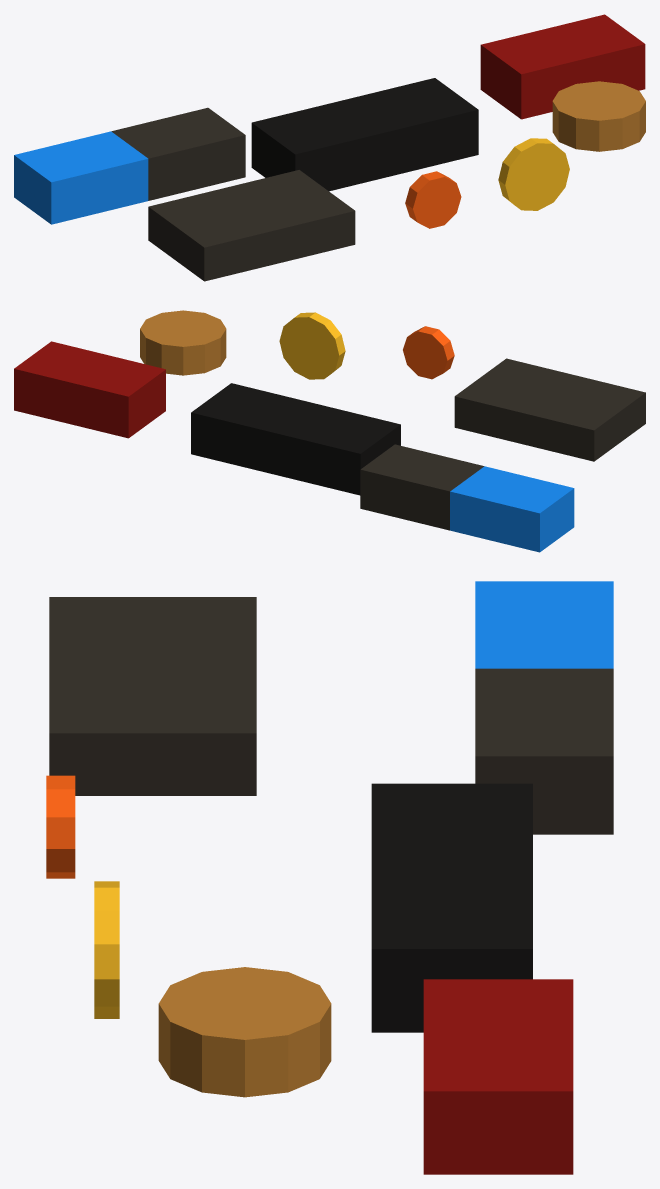
File: FRAG_ERB_Warden_ShutdownFragments.obj
3 renders of one model, top to bottom at view 1: azimuth 30°, elevation 25°; view 2: azimuth 150°, elevation 25°; view 3: azimuth 270°, elevation 25°, orthographic. The views are drawn at different scales.
Visible parts, largest first — view 1: warden_blackened_chassis_shard, warden_dimmed_mask_plate_fragment, warden_red_pressure_tank_label_shard, warden_bolt_coil_shutdown_piece, warden_cage_rib_shutdown_piece, warden_pressure_tank_cap_fragment, warden_broken_weak_point_lamp_lens, warden_loose_furnace_eye_glass; view 2: warden_blackened_chassis_shard, warden_dimmed_mask_plate_fragment, warden_red_pressure_tank_label_shard, warden_bolt_coil_shutdown_piece, warden_cage_rib_shutdown_piece, warden_pressure_tank_cap_fragment, warden_broken_weak_point_lamp_lens, warden_loose_furnace_eye_glass; view 3: warden_dimmed_mask_plate_fragment, warden_blackened_chassis_shard, warden_red_pressure_tank_label_shard, warden_cage_rib_shutdown_piece, warden_pressure_tank_cap_fragment, warden_bolt_coil_shutdown_piece, warden_broken_weak_point_lamp_lens, warden_loose_furnace_eye_glass.
Part boxes in pixels (x1,y1,x2,y2): warden_blackened_chassis_shard: (251, 78, 478, 191); warden_dimmed_mask_plate_fragment: (148, 170, 355, 281); warden_red_pressure_tank_label_shard: (480, 14, 645, 119); warden_bolt_coil_shutdown_piece: (14, 131, 148, 224); warden_cage_rib_shutdown_piece: (111, 107, 245, 200); warden_pressure_tank_cap_fragment: (552, 81, 645, 151); warden_broken_weak_point_lamp_lens: (498, 138, 569, 210); warden_loose_furnace_eye_glass: (405, 171, 461, 228); warden_blackened_chassis_shard: (191, 383, 400, 495); warden_dimmed_mask_plate_fragment: (454, 358, 645, 461); warden_red_pressure_tank_label_shard: (14, 341, 165, 438); warden_bolt_coil_shutdown_piece: (450, 466, 574, 552); warden_cage_rib_shutdown_piece: (360, 444, 484, 530); warden_pressure_tank_cap_fragment: (140, 310, 226, 375); warden_broken_weak_point_lamp_lens: (279, 312, 345, 379); warden_loose_furnace_eye_glass: (403, 326, 454, 379); warden_dimmed_mask_plate_fragment: (49, 597, 256, 795); warden_blackened_chassis_shard: (371, 783, 532, 1032); warden_red_pressure_tank_label_shard: (423, 979, 573, 1174); warden_cage_rib_shutdown_piece: (475, 668, 613, 834); warden_pressure_tank_cap_fragment: (158, 967, 331, 1097); warden_bolt_coil_shutdown_piece: (475, 581, 613, 668); warden_broken_weak_point_lamp_lens: (94, 881, 119, 1018); warden_loose_furnace_eye_glass: (46, 775, 75, 878).
Size of the model in its own units: 1.07 by 0.1278 by 0.4925.
